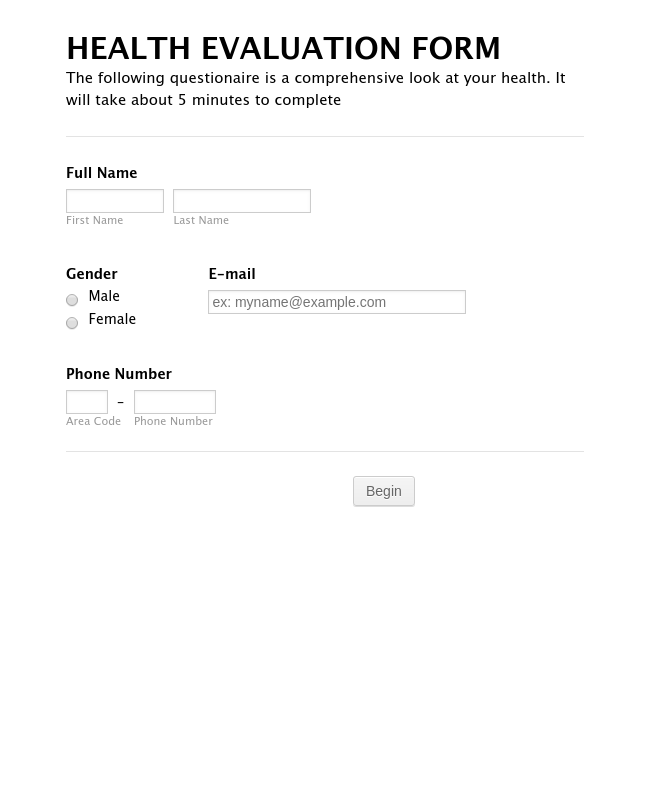textbox: (165, 180, 313, 217), (55, 184, 169, 218), (130, 382, 219, 419), (57, 387, 111, 419)
